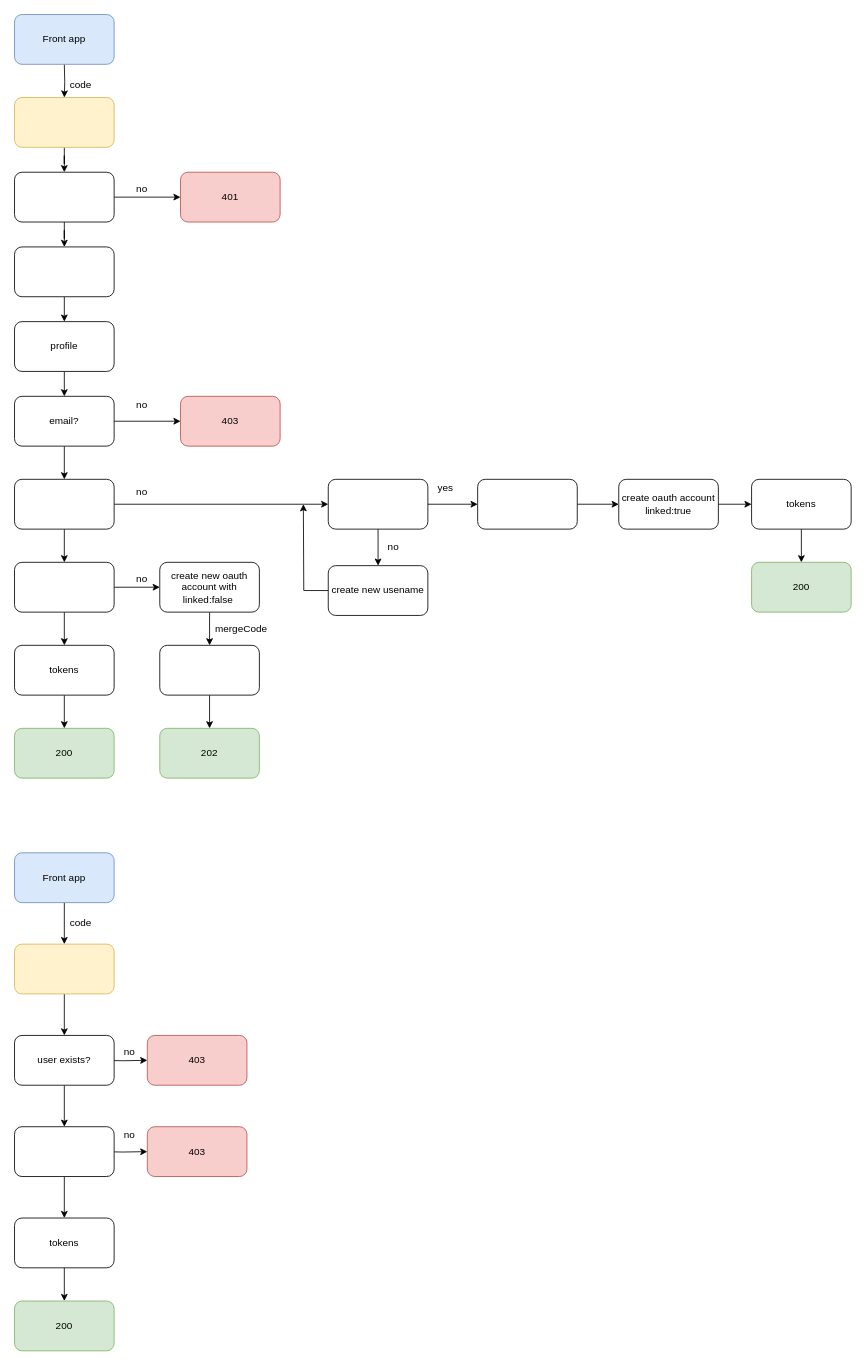
Some shapes in this 866 by 1365 pixel diagram are drawn without their labels. Here are the shapes that lost their labels. From the top down, the box of each, then its label:
(14, 97, 114, 147): Post github/sign-up
(14, 171, 114, 222): code is valid?
(14, 246, 114, 297): token
(14, 478, 114, 529): user already exists?
(327, 478, 428, 529): username unique?
(477, 478, 577, 529): create user
(14, 561, 114, 612): oauth account is linked/exists?
(159, 644, 259, 695): send email for merging
(14, 943, 114, 994): Post github/sign-in
(14, 1126, 114, 1177): account is linked?
